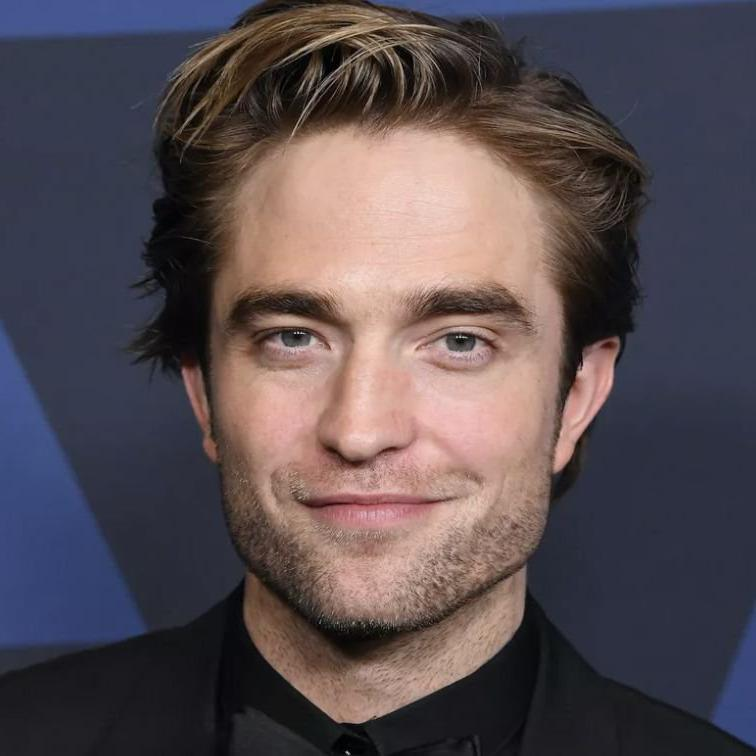Sober: (222, 134, 560, 581)
